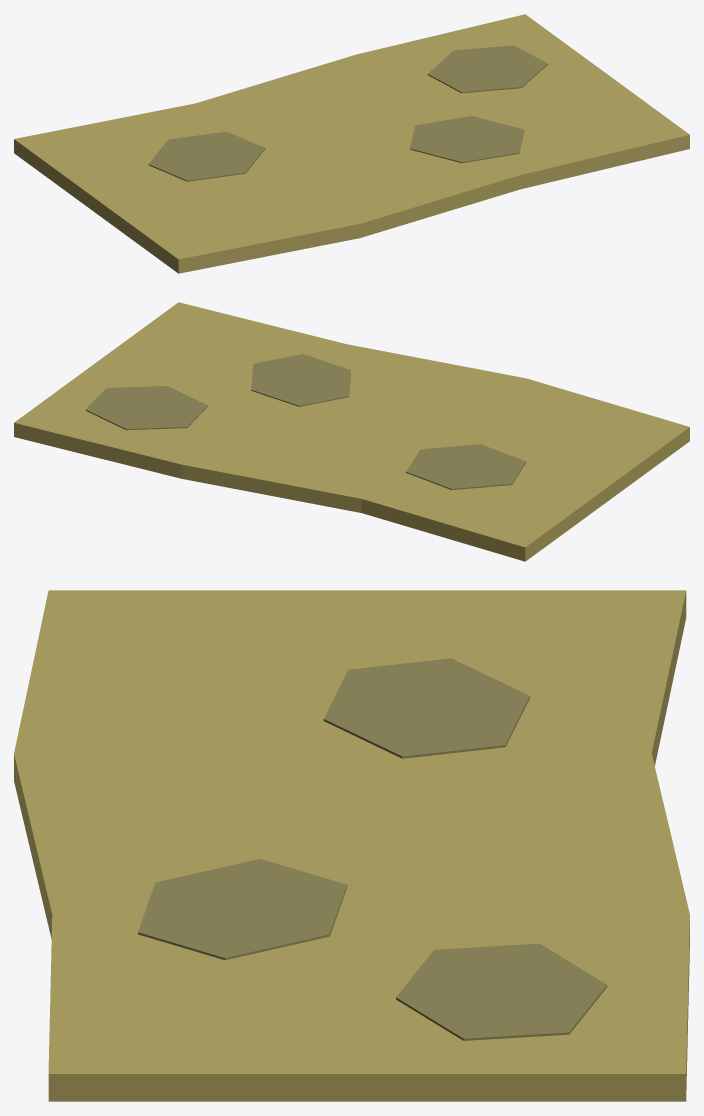
The model's file is Path.fbx.
The picture shows the model from 3 angles, top to bottom: view 1: azimuth 30°, elevation 25°; view 2: azimuth 150°, elevation 25°; view 3: azimuth 270°, elevation 25°; orthographic projection. The views are drawn at different scales.
Parts seen in each view (by area): view 1: Cube; view 2: Cube; view 3: Cube.
Part boxes in pixels (bbox=[...]): Cube: bbox=[14, 14, 689, 273]; Cube: bbox=[14, 302, 689, 561]; Cube: bbox=[14, 590, 689, 1101].
Size of the model in its own units: 409 by 11.75 by 242.
